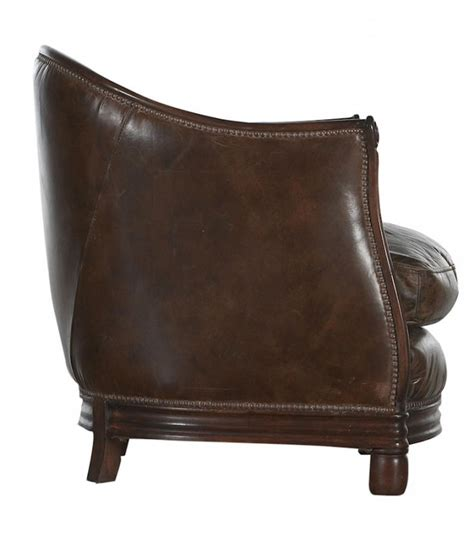cuero: (29, 44, 458, 416)
